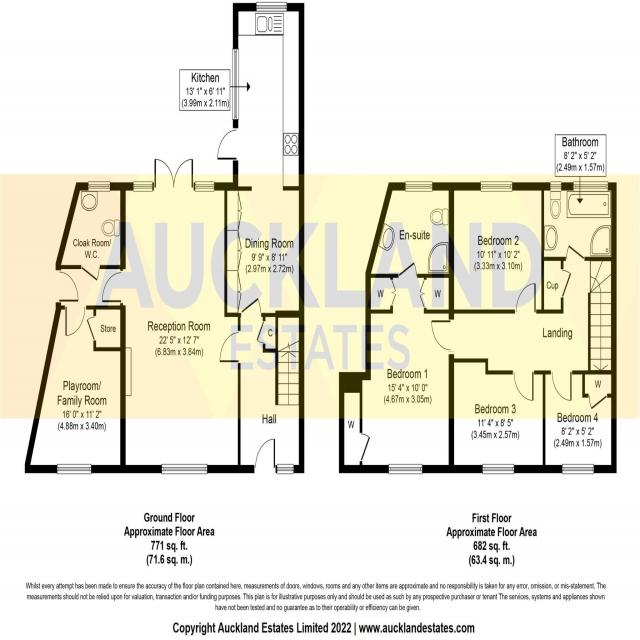DOOR: (430, 318, 455, 354), (253, 437, 276, 474), (55, 269, 79, 304), (511, 369, 535, 402), (549, 369, 573, 402), (101, 270, 124, 304), (216, 127, 239, 161), (514, 282, 537, 315), (219, 330, 241, 364), (64, 305, 87, 337), (241, 296, 262, 319), (397, 260, 418, 279), (565, 244, 585, 262), (81, 264, 100, 282)
DOUBLE DOOR: (152, 155, 197, 195)
ROOM: (100, 158, 241, 473), (216, 1, 305, 319), (339, 260, 455, 475), (24, 305, 126, 473), (448, 180, 544, 314), (448, 358, 546, 476), (542, 369, 617, 475)
WINDOW: (161, 462, 208, 476), (232, 47, 240, 122), (56, 463, 92, 475), (387, 463, 423, 475), (480, 180, 513, 193), (561, 463, 595, 475), (482, 463, 515, 475), (573, 181, 609, 192), (256, 1, 288, 13), (405, 180, 433, 193), (88, 181, 110, 193), (276, 463, 295, 475), (195, 181, 215, 192), (133, 181, 153, 192), (550, 181, 562, 192)
